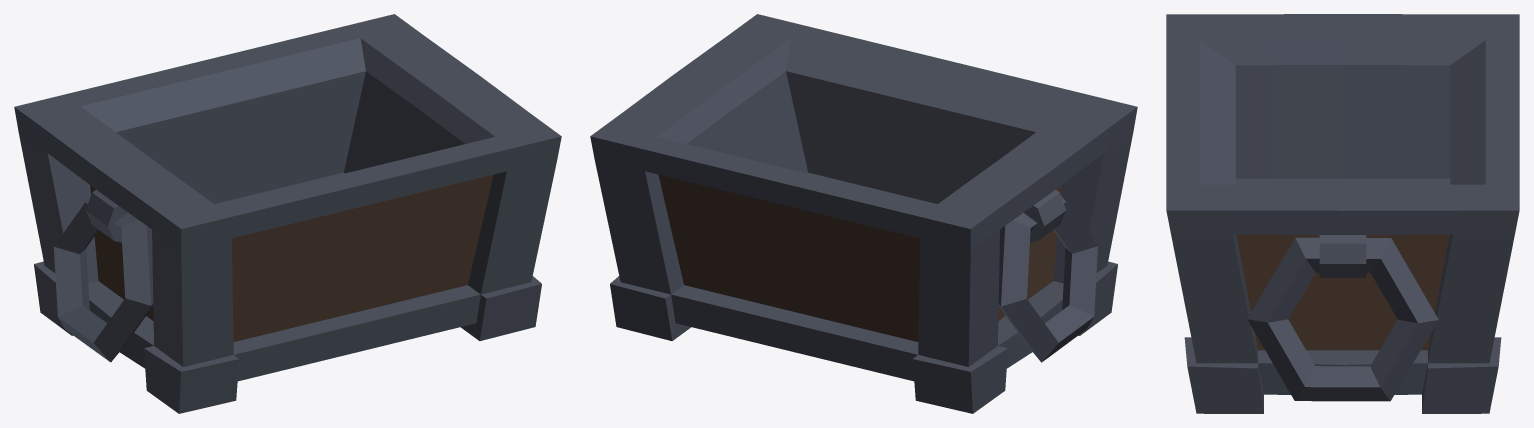
Rendered from chest_bottom.fbx.
3 renders of one model, left to right at view 1: azimuth 30°, elevation 25°; view 2: azimuth 150°, elevation 25°; view 3: azimuth 270°, elevation 25°, orthographic. The views are drawn at different scales.
Parts seen in each view (by area): view 1: chest_bottom; view 2: chest_bottom; view 3: chest_bottom.
Part boxes in pixels (x1,y1,x2,y2): chest_bottom: (14, 14, 561, 413); chest_bottom: (590, 14, 1137, 413); chest_bottom: (1166, 14, 1519, 413).
Size of the model in its own units: 111 by 49.66 by 75.9.
